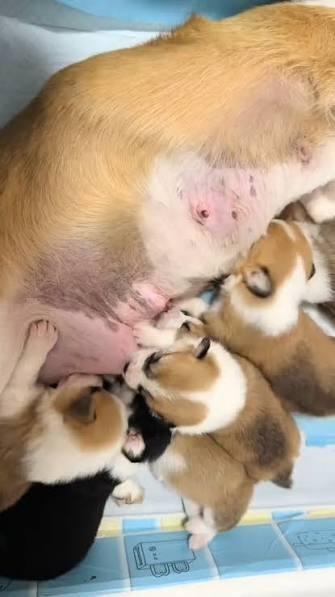adult_dog: (1, 4, 335, 383)
puppy-dog: (128, 325, 303, 551), (0, 390, 176, 586), (173, 218, 335, 417), (0, 374, 144, 513)
